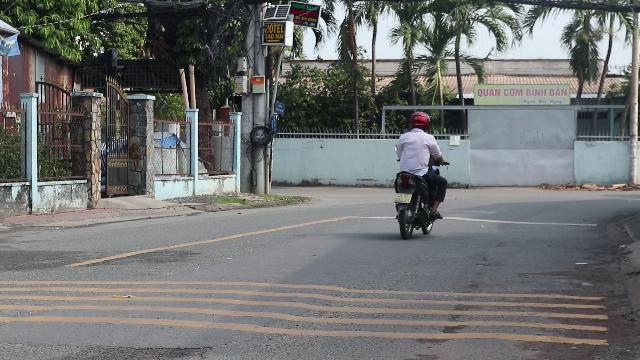helmet: (408, 111, 430, 131)
licenseplate: (394, 193, 411, 204)
motorcyclist: (388, 110, 448, 238)
